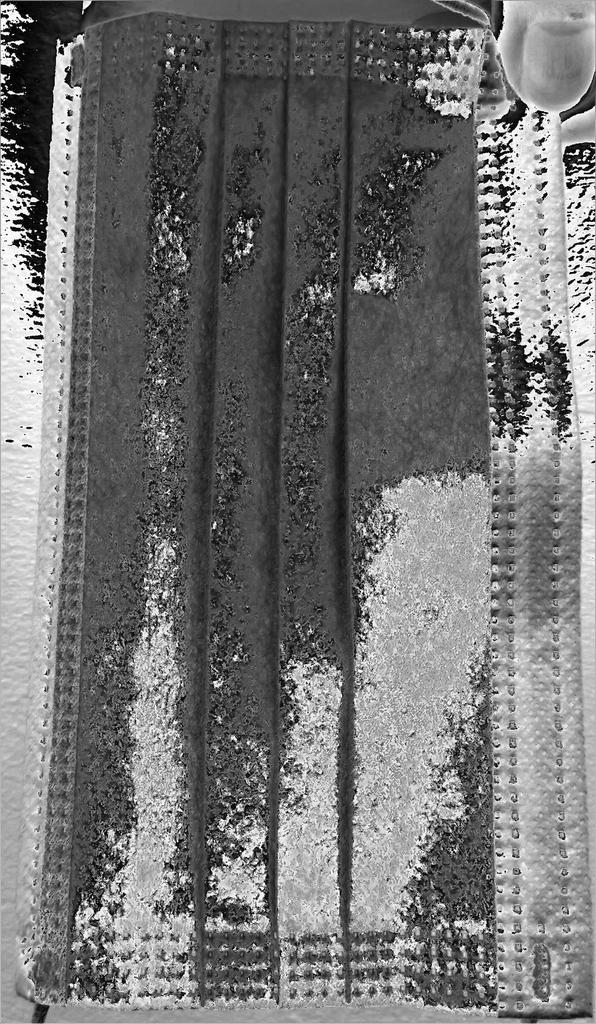Low GSM: (55, 71, 498, 942)
